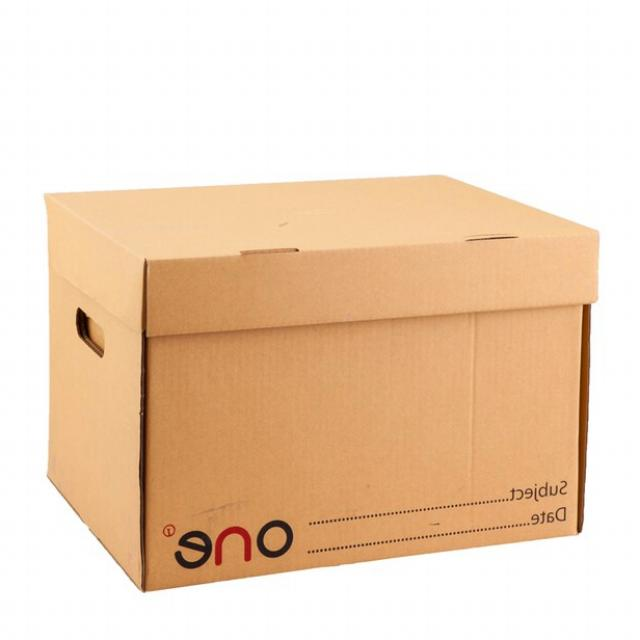box: (29, 161, 616, 598)
